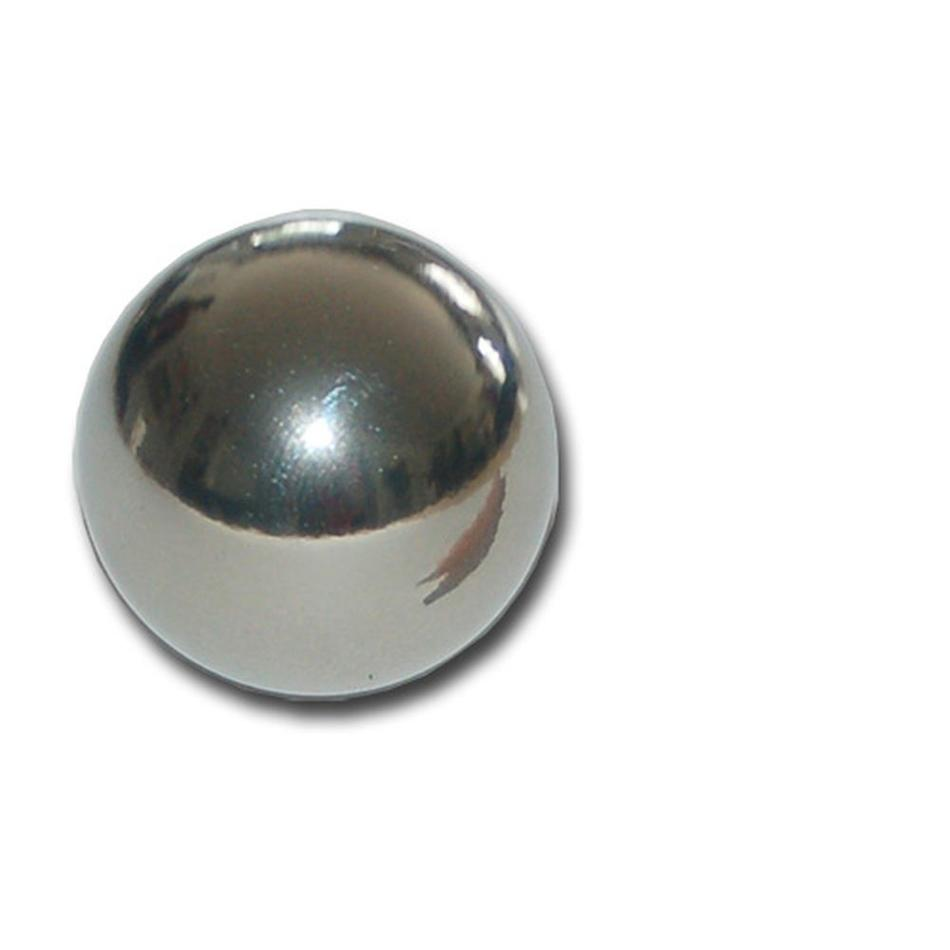steelball: (53, 196, 584, 735)
